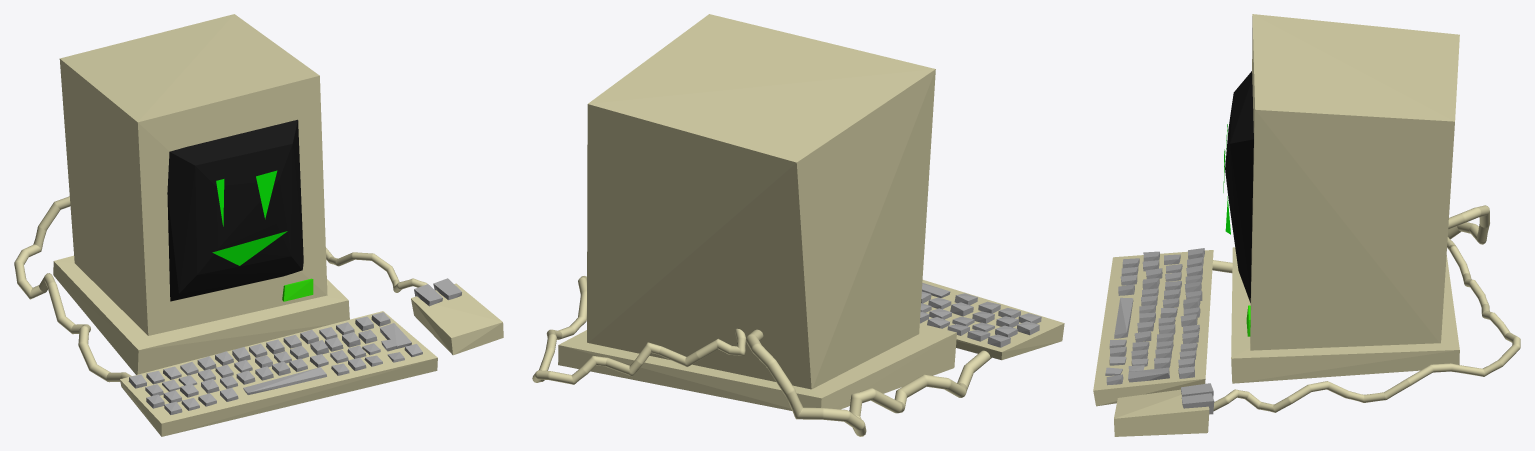
Rendered from The_better_billy.fbx.
3 renders of one model, left to right at view 1: azimuth 30°, elevation 25°; view 2: azimuth 150°, elevation 25°; view 3: azimuth 270°, elevation 25°, orthographic. The views are drawn at different scales.
Parts seen in each view (by area): view 1: s.0087, s.0090, s.0070, s.0097, s.0108, s.0101, s.0115, s.0095, s.0192, s.0094, s.0092; view 2: s.0087, s.0070, s.0101, s.0115, s.0097; view 3: s.0087, s.0070, s.0097, s.0090, s.0115, s.0108, s.0101, s.0192, s.0194, s.0112.
Part boxes in pixels (left/top/right/bottom): s.0087: left=59, top=14, right=327, bottom=335; s.0090: left=167, top=119, right=303, bottom=301; s.0070: left=53, top=255, right=349, bottom=374; s.0097: left=120, top=311, right=437, bottom=436; s.0108: left=411, top=283, right=503, bottom=355; s.0101: left=14, top=196, right=131, bottom=382; s.0115: left=326, top=248, right=427, bottom=292; s.0095: left=212, top=231, right=287, bottom=265; s.0192: left=243, top=367, right=326, bottom=394; s.0094: left=256, top=170, right=277, bottom=219; s.0092: left=282, top=278, right=313, bottom=301; s.0087: left=587, top=14, right=935, bottom=389; s.0070: left=558, top=323, right=956, bottom=410; s.0101: left=746, top=329, right=991, bottom=436; s.0115: left=532, top=276, right=746, bottom=384; s.0097: left=921, top=280, right=1064, bottom=360; s.0087: left=1250, top=14, right=1459, bottom=350; s.0070: left=1231, top=247, right=1459, bottom=383; s.0097: left=1093, top=250, right=1213, bottom=406; s.0090: left=1225, top=71, right=1253, bottom=302; s.0115: left=1213, top=237, right=1520, bottom=412; s.0108: left=1114, top=389, right=1209, bottom=436; s.0101: left=1212, top=205, right=1489, bottom=273; s.0192: left=1114, top=297, right=1133, bottom=338; s.0194: left=1128, top=367, right=1169, bottom=382; s.0112: left=1181, top=393, right=1214, bottom=414.
Size of the model in its own units: 0.5372 by 0.3884 by 0.5349.
